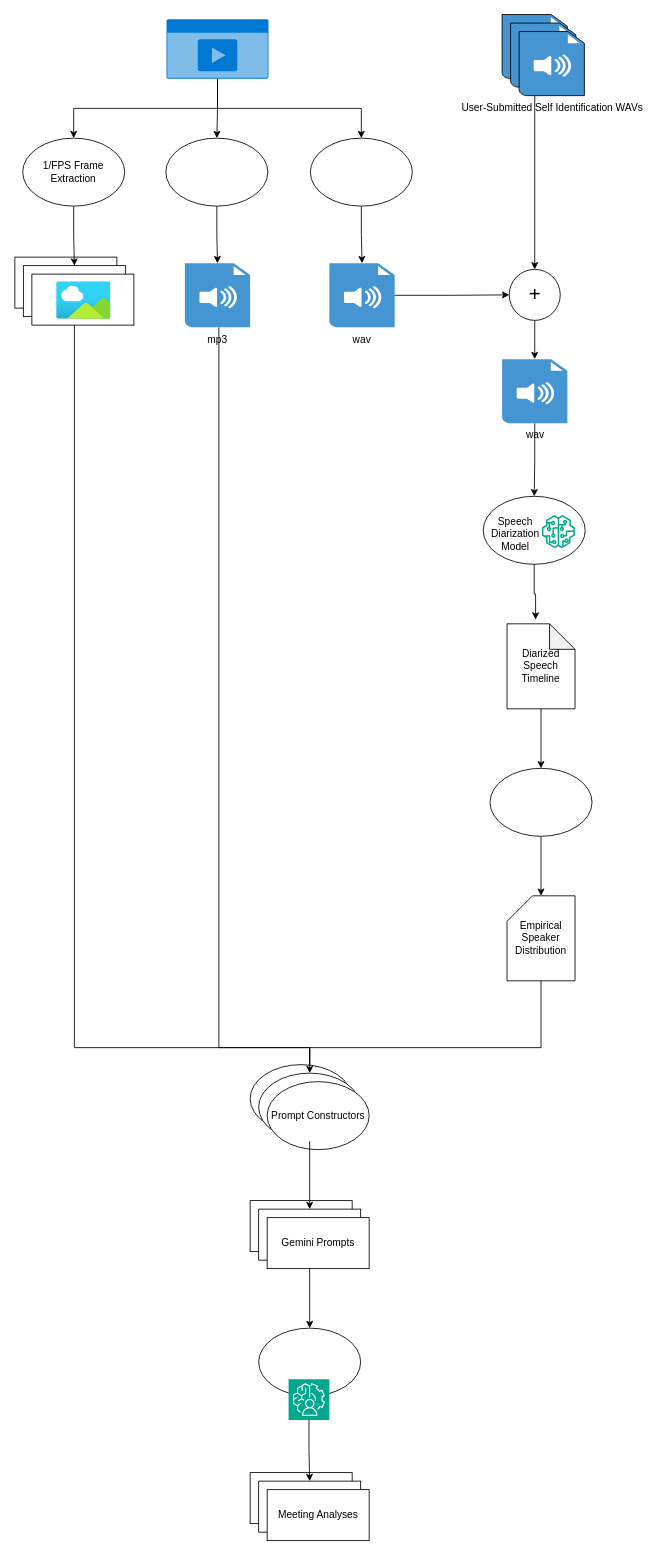
This 657x1556 diagram has some shape labels left out. Each missing label, with the centre of its shape:
"Gemini" goes at (309,1361).
"MP3 Audio Extraction" goes at (216,171).
"Speaker Statistical Profiling" goes at (540,801).
"Video" goes at (217,48).
"WAV Audio Extraction" goes at (360,171).
